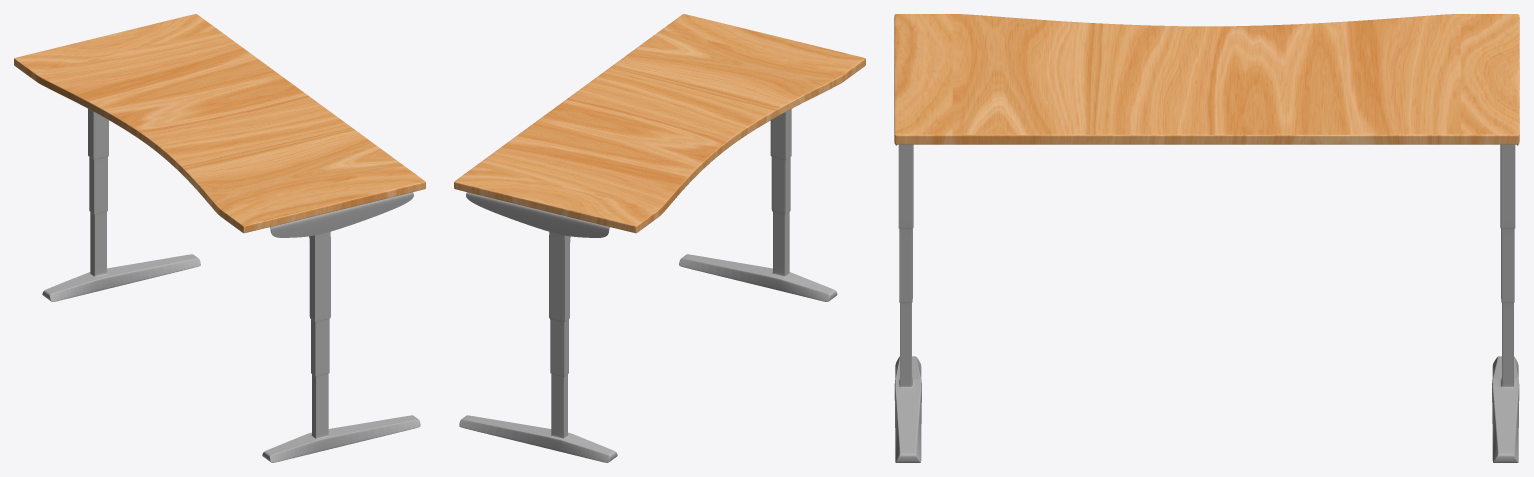
The model's file is standing_desk_1_textured.glb.
The picture shows the model from 3 angles, left to right: view 1: azimuth 30°, elevation 25°; view 2: azimuth 150°, elevation 25°; view 3: azimuth 270°, elevation 25°; orthographic projection. The views are drawn at different scales.
Visible parts, largest first — view 1: Cube.001, Cube, Plane; view 2: Cube.001, Cube, Plane; view 3: Cube.001, Cube.
Boxes of the visible parts, left/top/right/bottom form: Cube.001: left=14, top=14, right=425, bottom=233; Cube: left=42, top=109, right=420, bottom=462; Plane: left=270, top=192, right=413, bottom=237; Cube.001: left=454, top=14, right=865, bottom=233; Cube: left=459, top=109, right=837, bottom=462; Plane: left=466, top=192, right=609, bottom=237; Cube.001: left=894, top=14, right=1519, bottom=144; Cube: left=894, top=144, right=1519, bottom=462.
Size of the model in its own units: 13.74 by 17.54 by 29.9.
3 materials, 1 textured.
